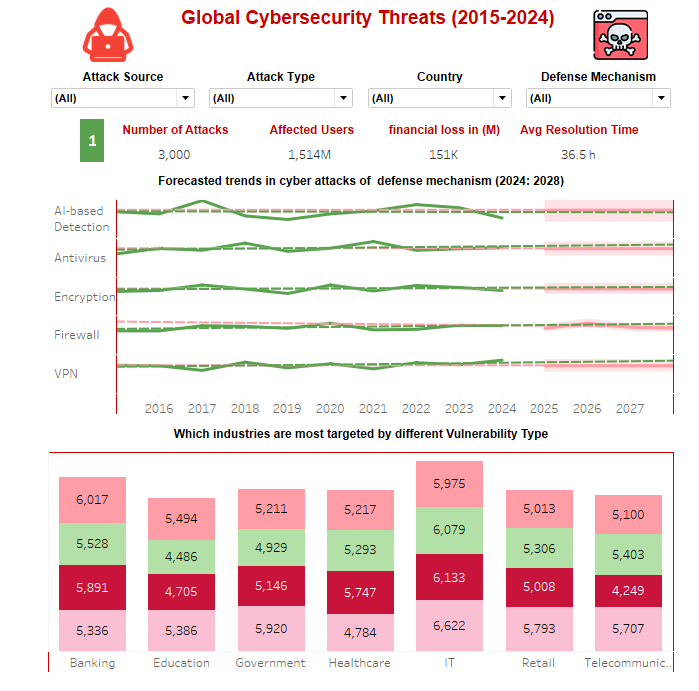

This screenshot's page, from the dashboard's own definition file:
{"tool":"tableau","page":{"name":"Dashboard 2","canvas":[650,860],"ordinal":0},"visuals":[{"type":"image","param":"Image/hacker.png","box":[8,12.3,96,82.9]},{"type":"title","box":[104,12.3,442,82.9]},{"type":"image","param":"Image/malware.png","box":[546,12.3,96,82.9]},{"type":"filter","title":"Total Number of Attacks","param":"[federated.1k61nbv0u52odv16lgdz61ymnogl].[none:Attack Source:nk]","box":[8,95.2,158.5,75.2]},{"type":"filter","title":"Total Number of Attacks","param":"[federated.1k61nbv0u52odv16lgdz61ymnogl].[none:Attack Type:nk]","box":[166.5,95.2,158.5,75.2]},{"type":"filter","title":"Total Number of Attacks","param":"[federated.1k61nbv0u52odv16lgdz61ymnogl].[none:Country:nk]","box":[325,95.2,158.5,75.2]},{"type":"filter","title":"Total Number of Attacks","param":"[federated.1k61nbv0u52odv16lgdz61ymnogl].[none:Defense Mechanism Used:nk]","box":[483.5,95.2,158.5,75.2]},{"type":"blank","box":[8,170.5,32,78.3]},{"type":"dashboard-object","box":[40,170.5,32,78.3]},{"type":"worksheet","title":"Total Number of Attacks","mark":"Automatic","box":[72,170.5,134.5,78.3]},{"type":"worksheet","title":"Number of Affected Users","mark":"Automatic","box":[206.5,170.5,134.5,78.3]},{"type":"worksheet","title":"total financial loss in melion","mark":"Automatic","box":[341,170.5,134.5,78.3]},{"type":"worksheet","title":"Average Resolution Time (hrs)","mark":"Automatic","box":[475.5,170.5,134.5,78.3]},{"type":"blank","box":[610,170.5,32,78.3]},{"type":"worksheet","title":"Which countries faced the highest financial losses","mark":"Automatic","box":[8,248.8,367,294.4]},{"type":"worksheet","title":"How have financial loss and affected users evolved from 2015 to 2024","mark":"Automatic","rows":["Financial Loss (in Million $)","Number of Affected Users"],"cols":["Year"],"box":[375,248.8,267,294.4]},{"type":"blank","box":[383,394.7,216,90.6]},{"type":"legend","title":"How have financial loss and affected users evolved from 2015 to 2024","param":"[federated.1k61nbv0u52odv16lgdz61ymnogl].[:Measure Names]","box":[385,396.2,179,89.1]},{"type":"worksheet","title":"Which security vulnerabilities are most exploited?","mark":"Pie","box":[8,543.2,285,304.5]},{"type":"worksheet","title":"How Effective Are Defense Mechanisms over Industries in Financial Loss","mark":"Automatic","box":[293,543.2,349,304.5]}]}

Visuals, with their boxes on the page's 650x860 design canvas (x1, y1, x2, y2). These are canvas units, not pixel positions in the 699x691 screenshot, which may show the page scaled, cropped or inside an application window:
image: <box>8,12,104,95</box>
title: <box>104,12,546,95</box>
image: <box>546,12,642,95</box>
"Total Number of Attacks" filter: <box>8,95,166,170</box>
"Total Number of Attacks" filter: <box>166,95,325,170</box>
"Total Number of Attacks" filter: <box>325,95,484,170</box>
"Total Number of Attacks" filter: <box>484,95,642,170</box>
blank: <box>8,170,40,249</box>
dashboard-object: <box>40,170,72,249</box>
"Total Number of Attacks" worksheet: <box>72,170,206,249</box>
"Number of Affected Users" worksheet: <box>206,170,341,249</box>
"total financial loss in melion" worksheet: <box>341,170,476,249</box>
"Average Resolution Time (hrs)" worksheet: <box>476,170,610,249</box>
blank: <box>610,170,642,249</box>
"Which countries faced the highest financial losses" worksheet: <box>8,249,375,543</box>
"How have financial loss and affected users evolved from 2015 to 2024" worksheet: <box>375,249,642,543</box>
blank: <box>383,395,599,485</box>
"How have financial loss and affected users evolved from 2015 to 2024" legend: <box>385,396,564,485</box>
"Which security vulnerabilities are most exploited?" worksheet (Pie marks): <box>8,543,293,848</box>
"How Effective Are Defense Mechanisms over Industries in Financial Loss" worksheet: <box>293,543,642,848</box>
